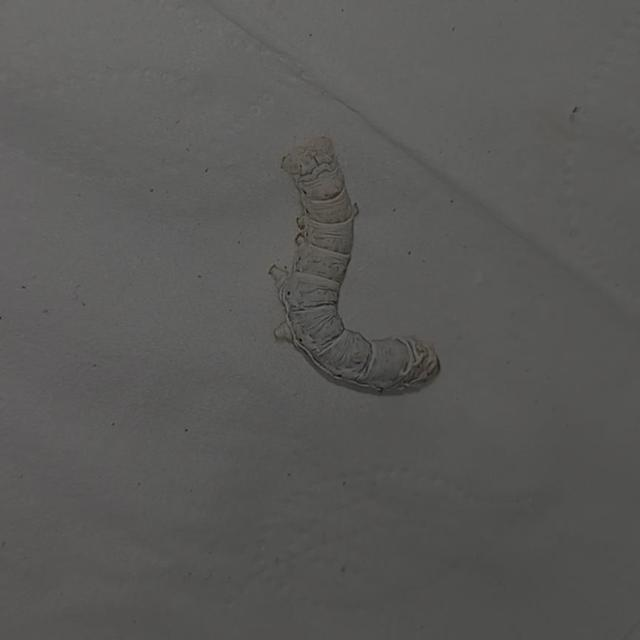Healthy: (237, 99, 462, 443)
